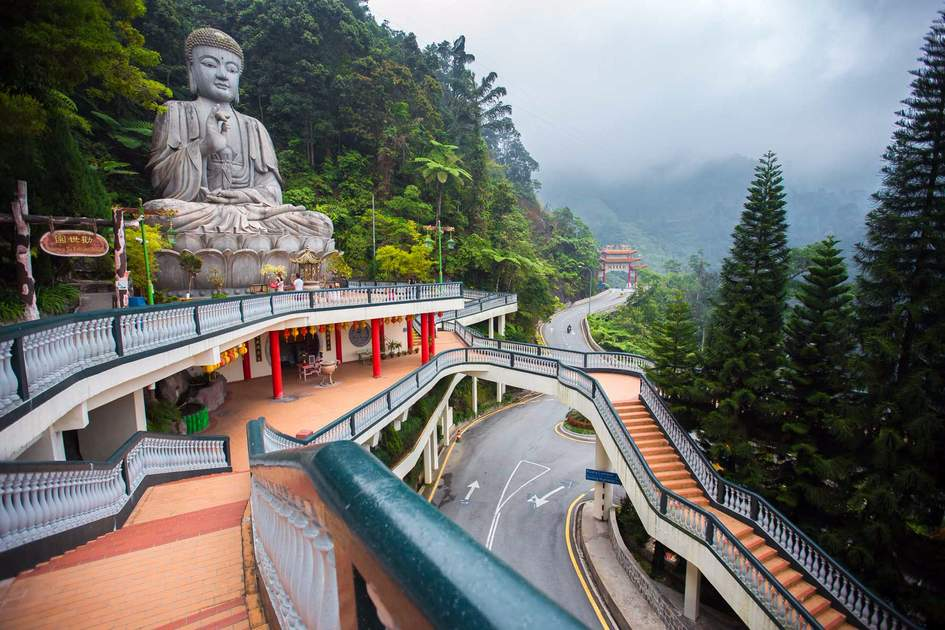Buddhist Temple: (99, 20, 325, 276)
